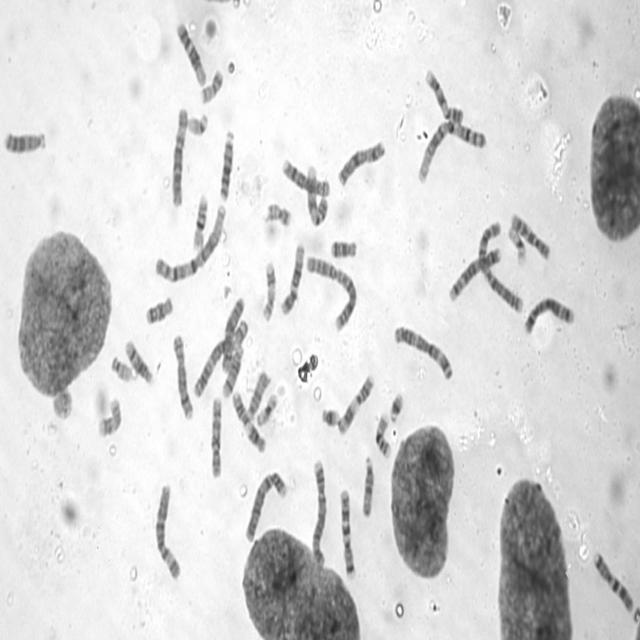A1: (152, 199, 228, 285), (415, 116, 487, 185)
A2: (476, 218, 524, 314), (304, 251, 358, 334)
A3: (190, 320, 250, 400), (392, 320, 454, 382)
B4: (242, 466, 288, 544), (310, 456, 328, 568)
B5: (446, 242, 504, 304), (522, 292, 576, 337)
C10: (507, 208, 552, 263), (208, 392, 223, 482)
C11: (335, 371, 376, 436), (230, 388, 267, 454)
C12: (174, 17, 207, 88), (279, 239, 305, 317)
C6: (153, 481, 182, 581), (169, 104, 189, 210)
C7: (591, 548, 635, 616), (338, 485, 357, 580)
C8: (281, 154, 331, 198), (170, 331, 194, 422)
C9: (424, 65, 464, 127), (304, 161, 330, 227)
D13: (217, 127, 236, 202), (2, 126, 46, 156)
D14: (124, 335, 154, 386), (220, 342, 244, 399)
D15: (245, 368, 272, 420), (360, 452, 376, 519)
E16: (190, 191, 210, 252), (373, 410, 392, 459)
E17: (96, 394, 123, 439), (260, 258, 277, 323)
E18: (144, 292, 174, 326), (328, 236, 358, 260)
F19: (507, 220, 528, 269), (255, 389, 279, 426)
F20: (198, 64, 225, 105), (263, 198, 293, 229)
G21: (388, 388, 404, 423), (320, 404, 340, 429)
G22: (108, 351, 134, 383), (186, 108, 209, 138)
X: (335, 137, 387, 188), (219, 291, 246, 374)
